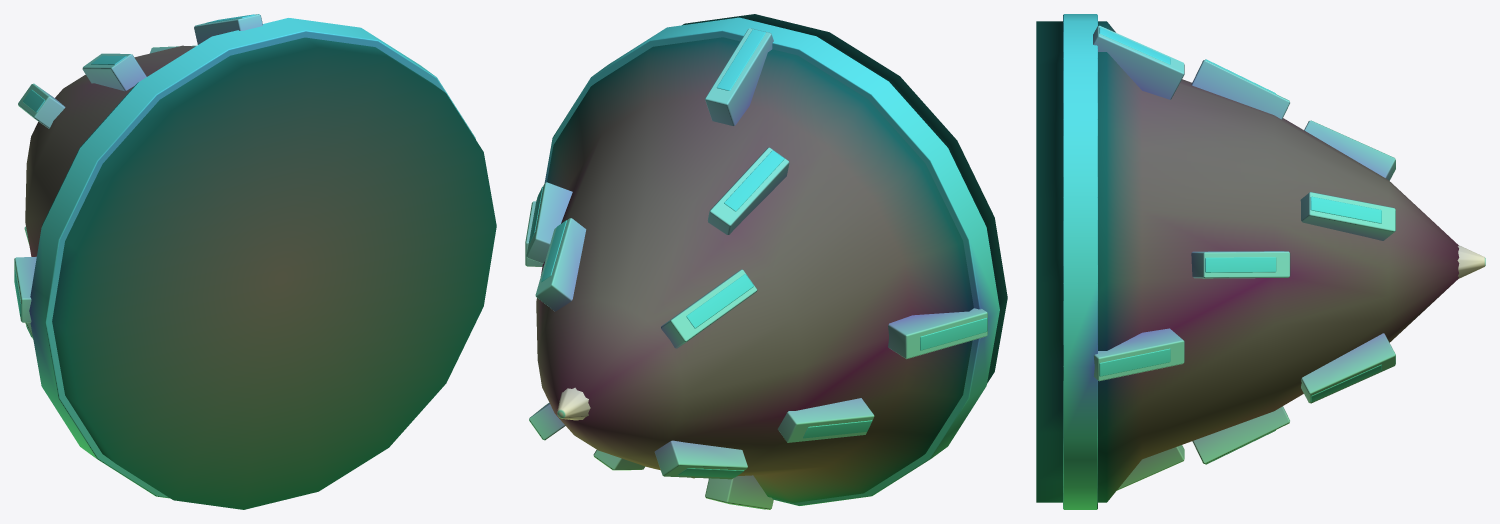
Rendered from kit_boss_plasma_auger.glb.
3 renders of one model, left to right at view 1: azimuth 30°, elevation 25°; view 2: azimuth 150°, elevation 25°; view 3: azimuth 270°, elevation 25°, orthographic. The views are drawn at different scales.
Visible parts, largest first — view 1: Spinner_Z_0__dark, Spinner_Z_0__emit_core, Spinner_Z_0__chrome; view 2: Spinner_Z_0__dark, Spinner_Z_0__emit_core, Spinner_Z_0__chrome; view 3: Spinner_Z_0__dark, Spinner_Z_0__emit_core, Spinner_Z_0__chrome.
Boxes of the visible parts, box(x1,y1,x2,y2) form: Spinner_Z_0__dark: box(25, 37, 496, 509); Spinner_Z_0__emit_core: box(14, 14, 475, 498); Spinner_Z_0__chrome: box(14, 14, 262, 339); Spinner_Z_0__dark: box(536, 14, 1007, 502); Spinner_Z_0__emit_core: box(529, 17, 999, 509); Spinner_Z_0__chrome: box(525, 28, 987, 509); Spinner_Z_0__dark: box(1036, 21, 1459, 502); Spinner_Z_0__emit_core: box(1063, 14, 1381, 509); Spinner_Z_0__chrome: box(1093, 25, 1485, 490).
Size of the model in its own units: 1.19 by 1.19 by 1.04.
